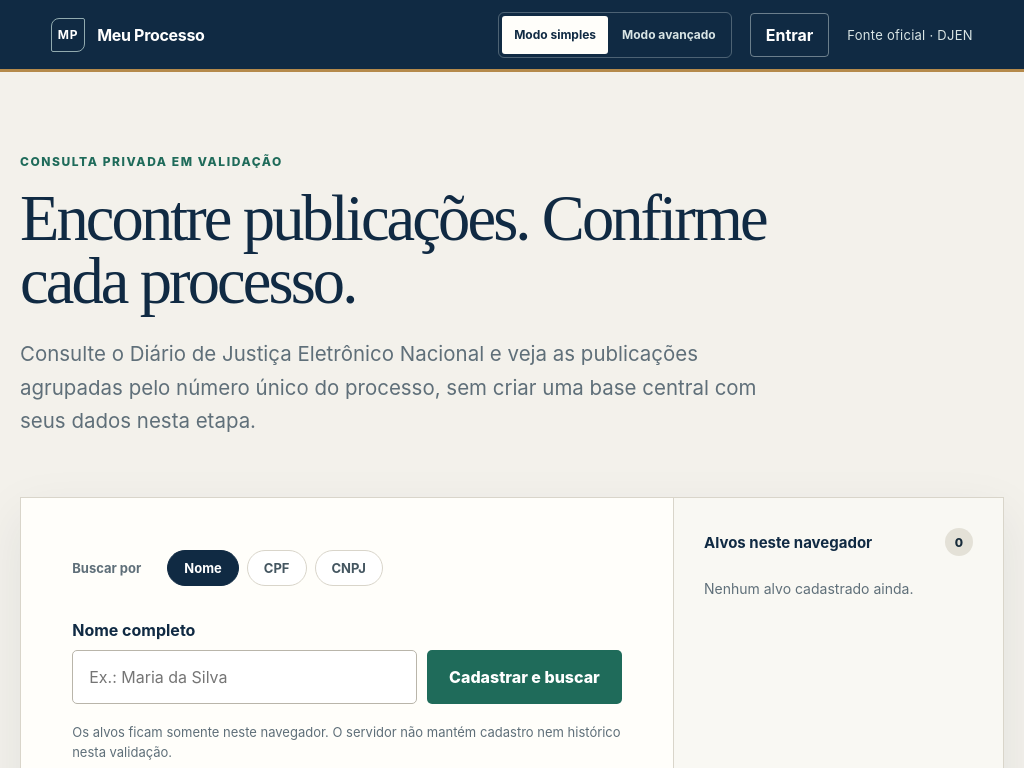
Test: App › keeps the experimental document-search limitation visible
The image size is (1024, 768).
Click the radio button labelled "CPF" at coordinates (277, 568), box [247,550,306,586]
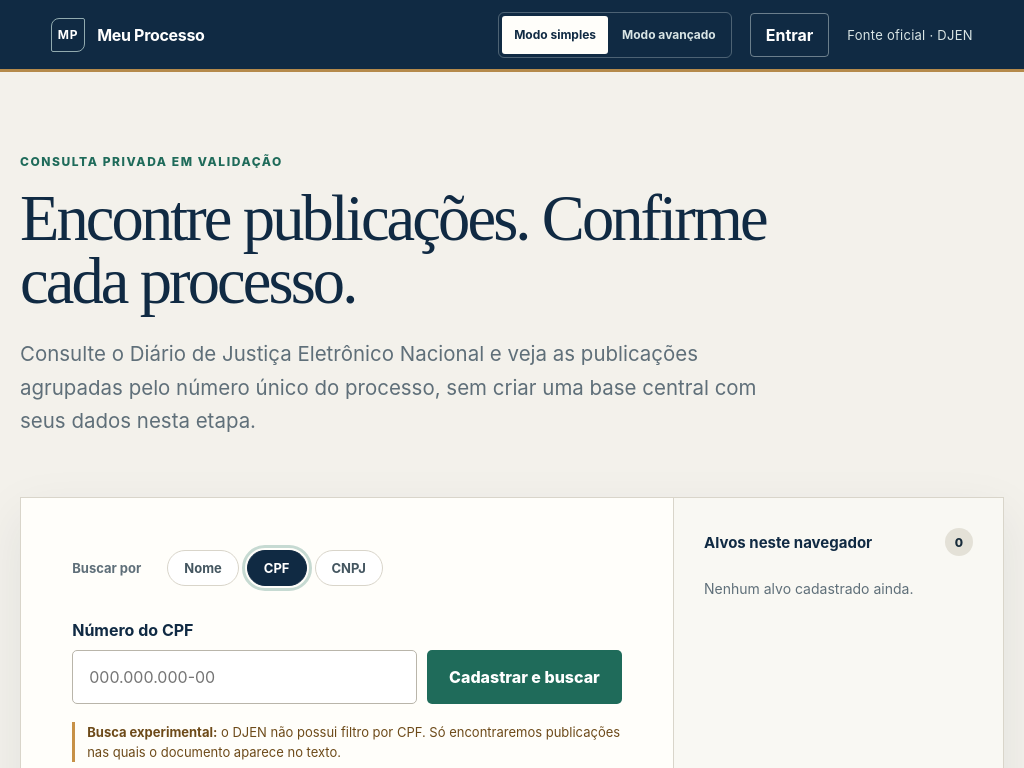
Check: the radio button labelled "CPF" is checked, box [247,550,306,586]
Check: the text "Busca experimental:" is shown, box [87,724,217,740]
